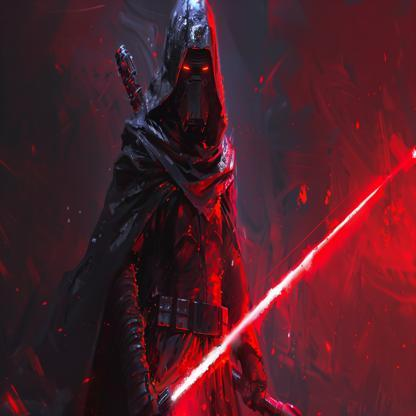sith_lightsaber: (156, 183, 384, 411)
